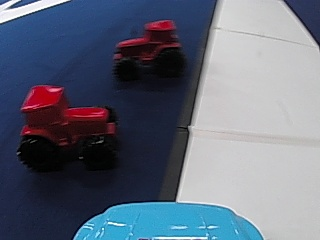tractor: (17, 84, 118, 171), (110, 20, 186, 83)
